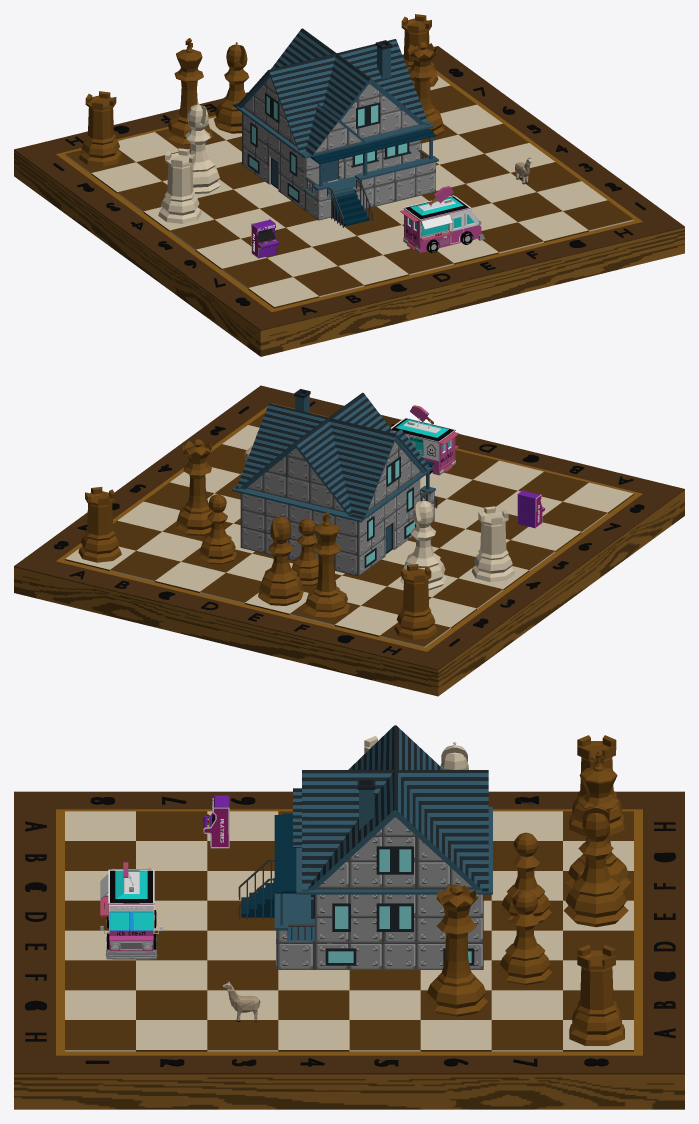
3 renders of one model, top to bottom at view 1: azimuth 30°, elevation 25°; view 2: azimuth 150°, elevation 25°; view 3: azimuth 270°, elevation 25°, orthographic. The views are drawn at different scales.
Parts seen in each view (by area): view 1: Cube.002, Cube.078, VEHICLES_ICE_CREAM_TRUCK, OBJRANDOM_ARCADE; view 2: Cube.002, Cube.078, VEHICLES_ICE_CREAM_TRUCK, OBJRANDOM_ARCADE; view 3: Cube.002, Cube.078, VEHICLES_ICE_CREAM_TRUCK, OBJRANDOM_ARCADE, ANIMAL_LLAMA.
Part boxes in pixels (x1=…): Cube.002: x1=14, y1=14, x2=684, y2=356; Cube.078: x1=232, y1=28, x2=438, y2=227; VEHICLES_ICE_CREAM_TRUCK: x1=400, y1=186, x2=485, y2=253; OBJRANDOM_ARCADE: x1=251, y1=219, x2=279, y2=258; Cube.002: x1=14, y1=385, x2=684, y2=696; Cube.078: x1=232, y1=389, x2=437, y2=576; VEHICLES_ICE_CREAM_TRUCK: x1=391, y1=405, x2=459, y2=475; OBJRANDOM_ARCADE: x1=517, y1=490, x2=545, y2=528; Cube.002: x1=14, y1=735, x2=684, y2=1109; Cube.078: x1=238, y1=725, x2=492, y2=969; VEHICLES_ICE_CREAM_TRUCK: x1=100, y1=862, x2=162, y2=959; OBJRANDOM_ARCADE: x1=203, y1=795, x2=229, y2=848; ANIMAL_LLAMA: x1=222, y1=981, x2=260, y2=1021.
Size of the model in its own units: 3981 by 1484 by 4012.
51 materials, 4 textured.
